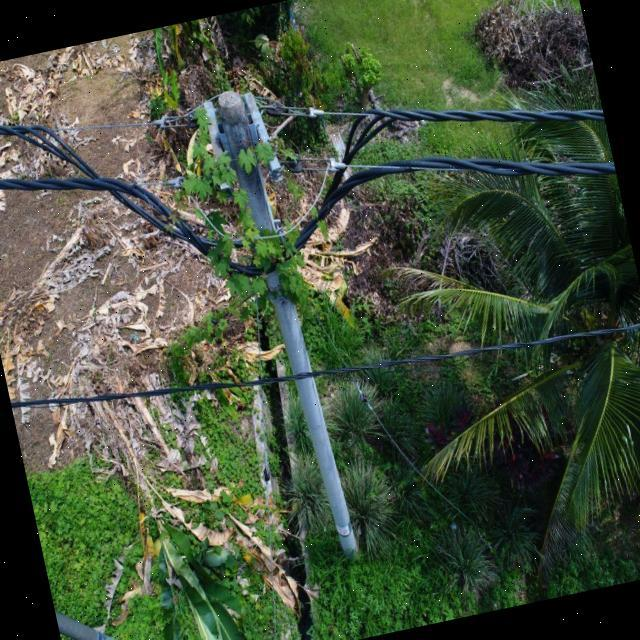critical vegetation: (149, 59, 352, 308)
